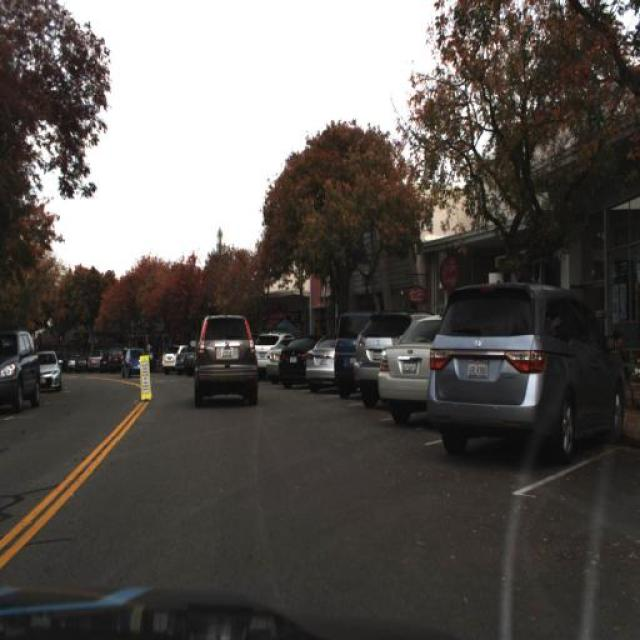car: (423, 276, 628, 472), (375, 308, 439, 429), (352, 305, 428, 406), (190, 313, 260, 412), (0, 328, 41, 408), (332, 308, 362, 397), (276, 336, 316, 388), (304, 333, 334, 391), (252, 331, 284, 378), (35, 349, 61, 391), (266, 336, 289, 380), (121, 346, 151, 376)
